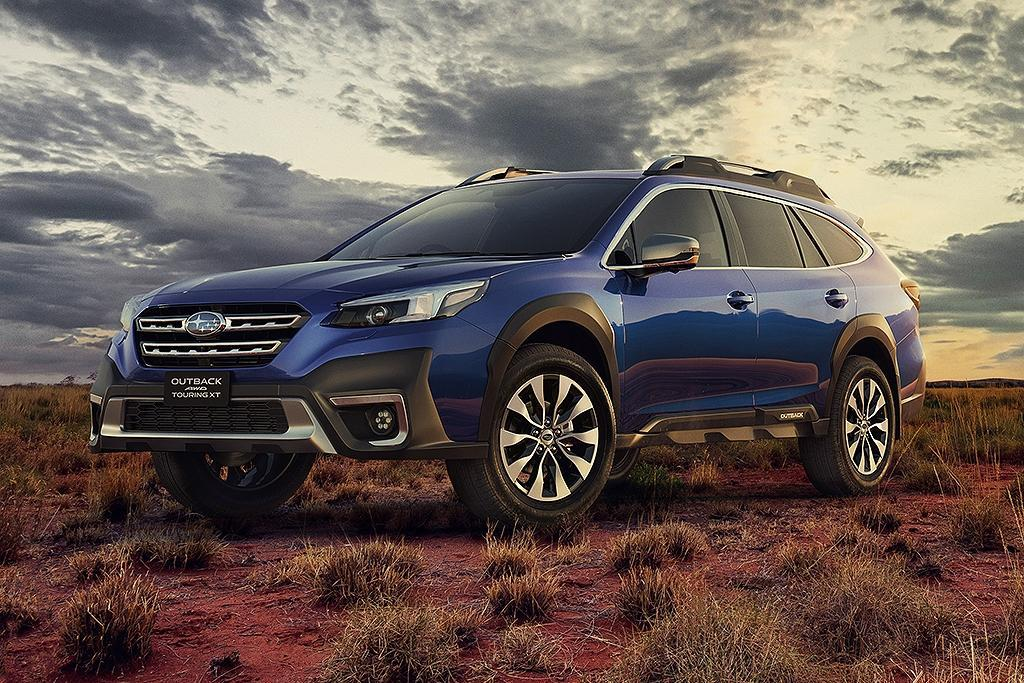subaru: (177, 302, 237, 343)
